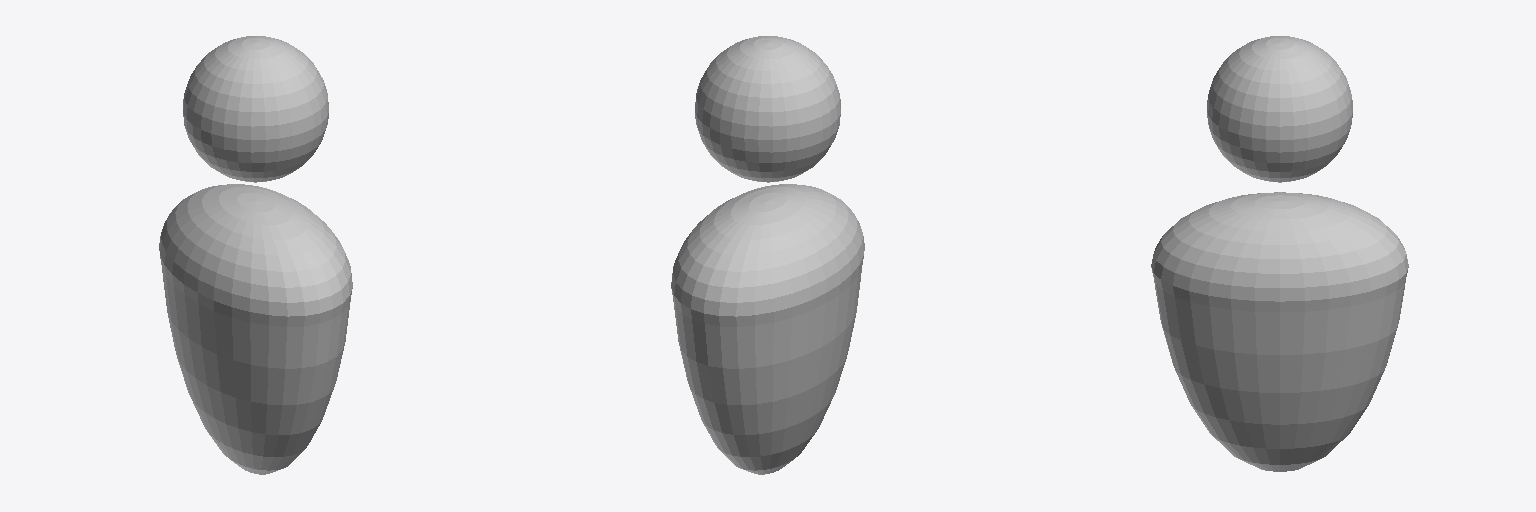
The model's file is pilot.obj.
3 renders of one model, left to right at view 1: azimuth 30°, elevation 25°; view 2: azimuth 150°, elevation 25°; view 3: azimuth 270°, elevation 25°, orthographic.
Parts seen in each view (by area): view 1: Sphere.001, Sphere; view 2: Sphere.001, Sphere; view 3: Sphere.001, Sphere.
Boxes of the visible parts, x1=… form: Sphere.001: x1=159, y1=184, x2=352, y2=474; Sphere: x1=183, y1=36, x2=328, y2=182; Sphere.001: x1=671, y1=184, x2=864, y2=474; Sphere: x1=695, y1=36, x2=840, y2=182; Sphere.001: x1=1151, y1=192, x2=1408, y2=471; Sphere: x1=1207, y1=36, x2=1352, y2=182.
Bounding box in the file's own units: 0.671 × 1.89 × 1.03.